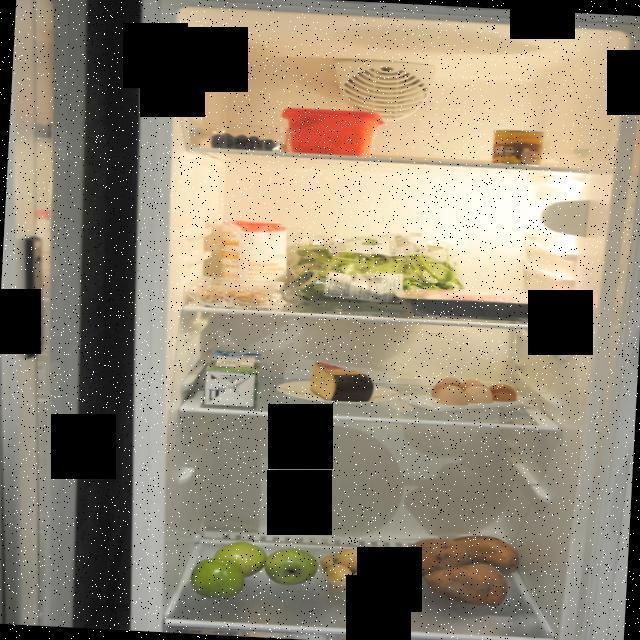apple: (188, 538, 322, 606)
blueberries: (208, 121, 292, 152)
butter: (276, 103, 387, 162)
cheese: (310, 360, 380, 405)
corn: (491, 126, 546, 168)
eggs: (426, 368, 526, 414)
ground_beef: (388, 282, 570, 324)
milk: (202, 346, 265, 411)
potato: (317, 546, 405, 603)
spinach: (284, 237, 470, 311)
sugar: (216, 217, 292, 299)
sweet_potato: (398, 530, 524, 612)
